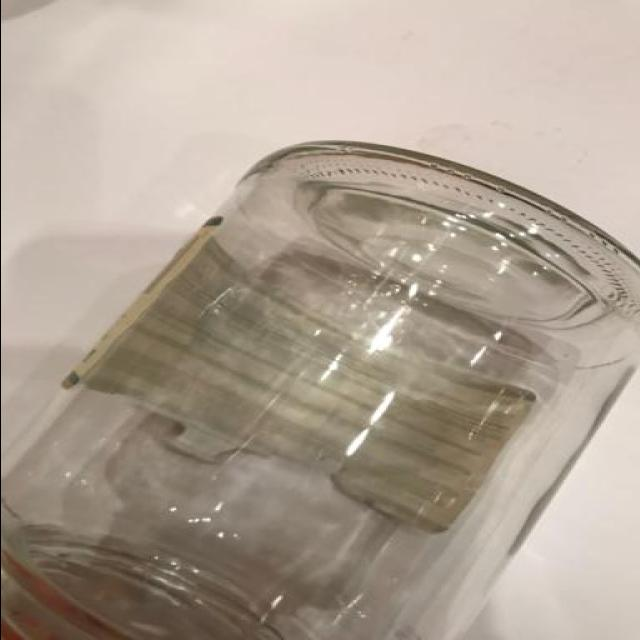litter: (0, 140, 640, 639)
